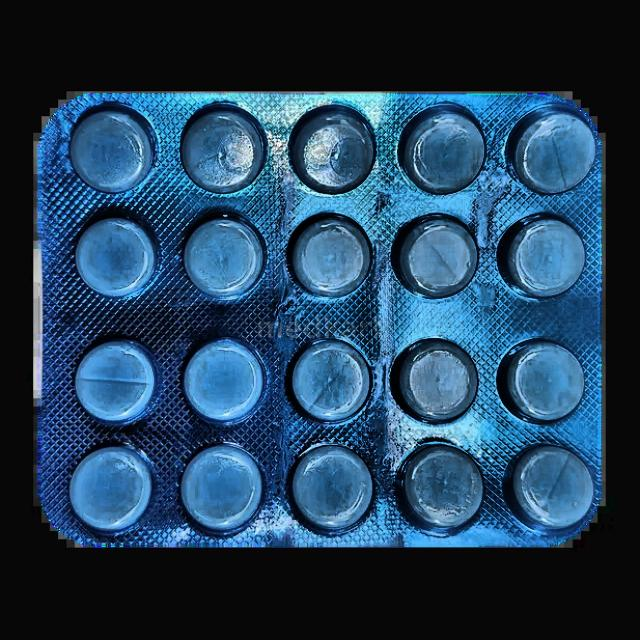Paracetamol: (68, 113, 600, 539)
